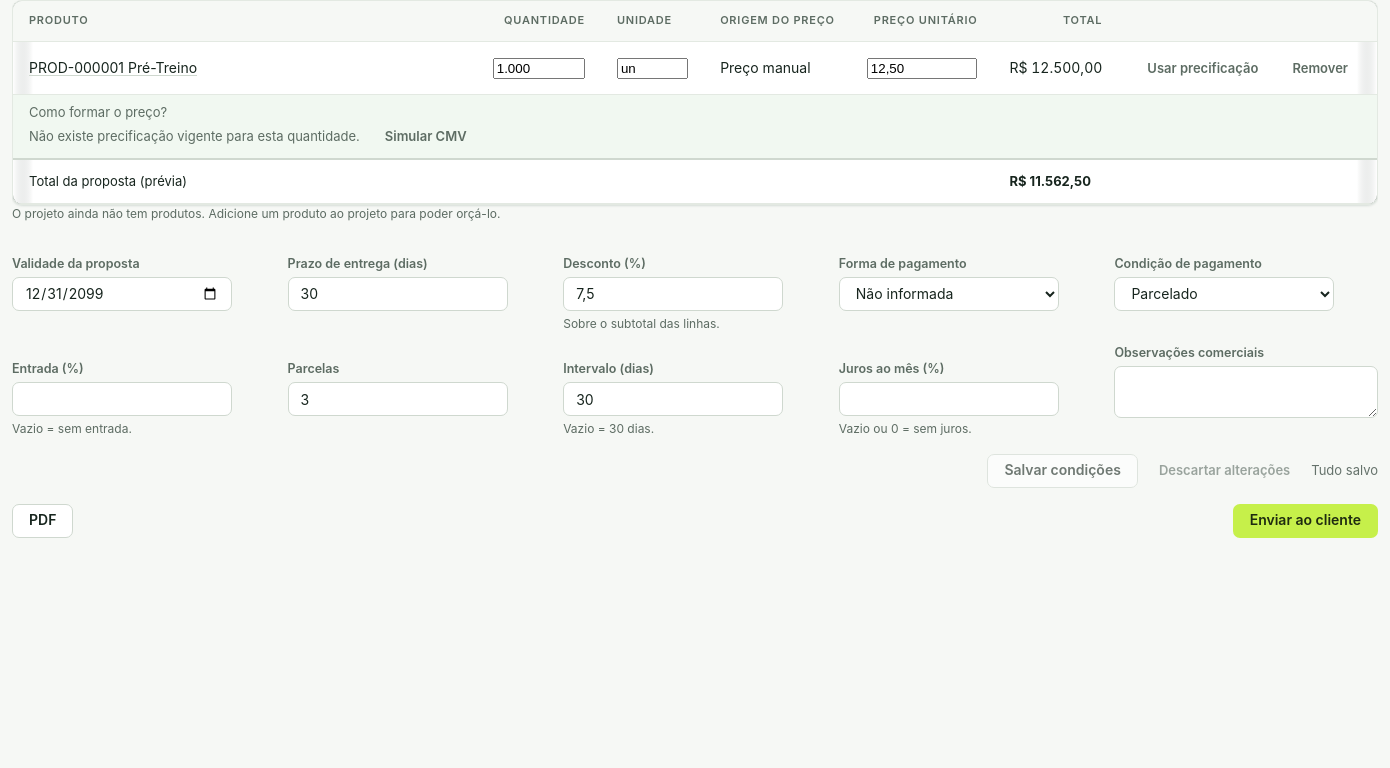
Test: preço unitário comercial — dinheiro de quatro casas › colar R$ 1.234,5678 grava 1234.5678 ao sair do campo
The image size is (1390, 768).
Click the field named "Preço unitário de PROD-000001" at (922, 68), box [867,58,977,79]
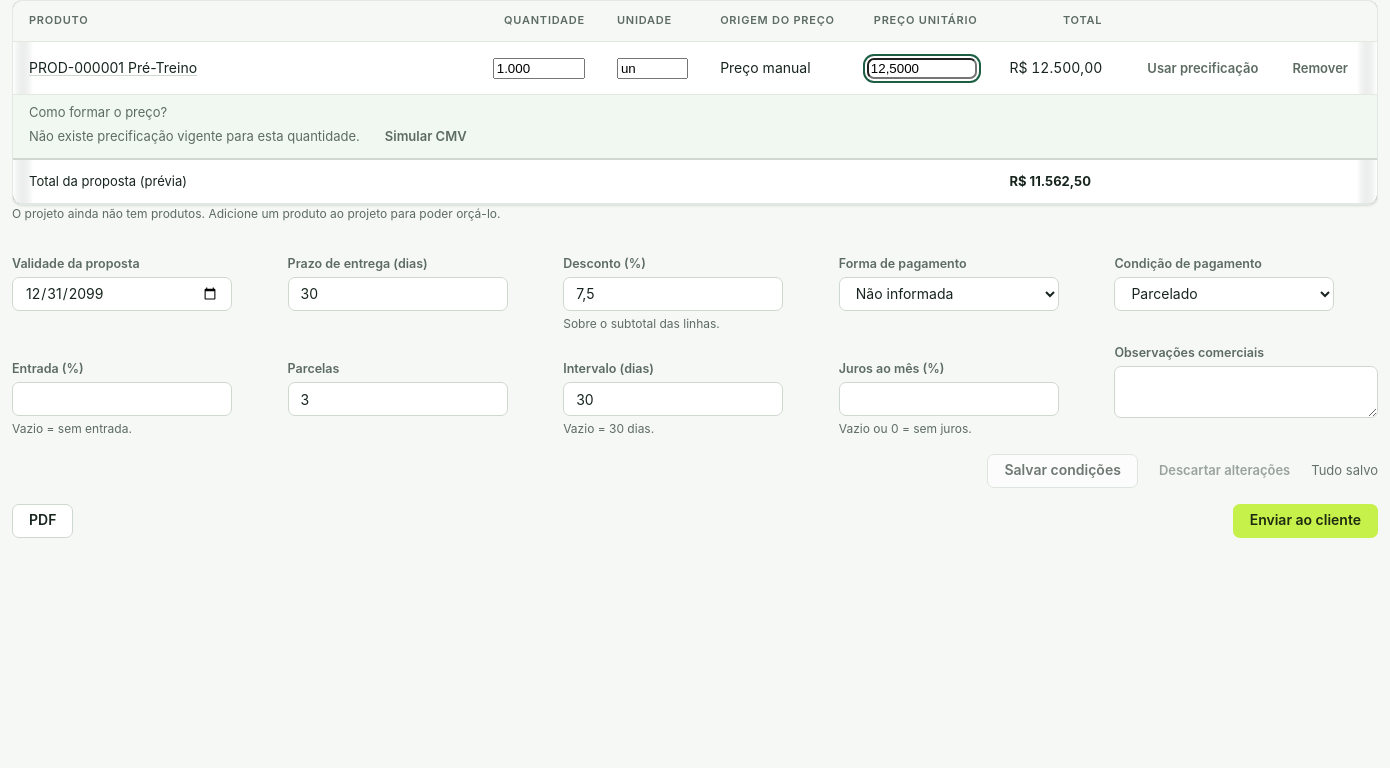
Type keys "{Control>}a{/Control}"
Type keys "R$ 1.234,5678"
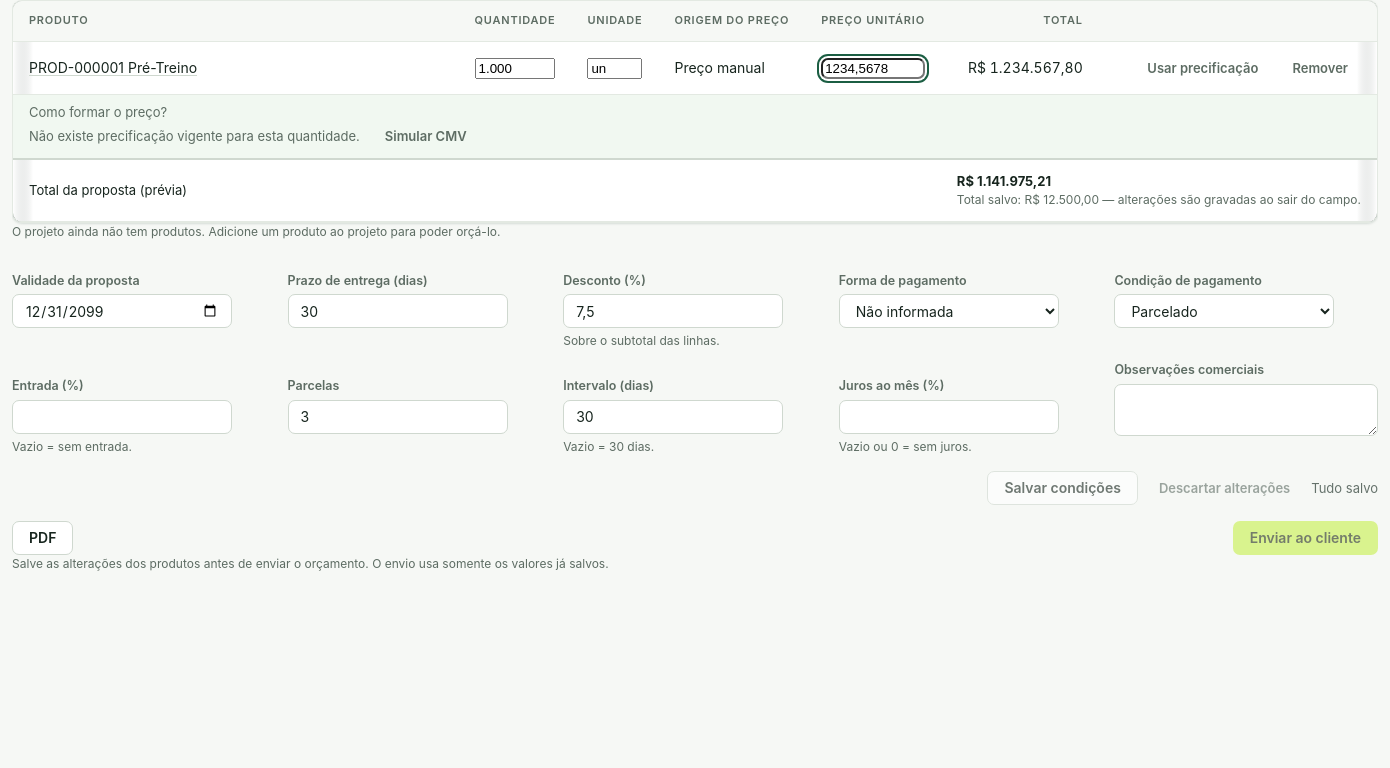
Check: the field named "Preço unitário de PROD-000001" holds "1234,5678", box [821,58,925,79]
Press Tab
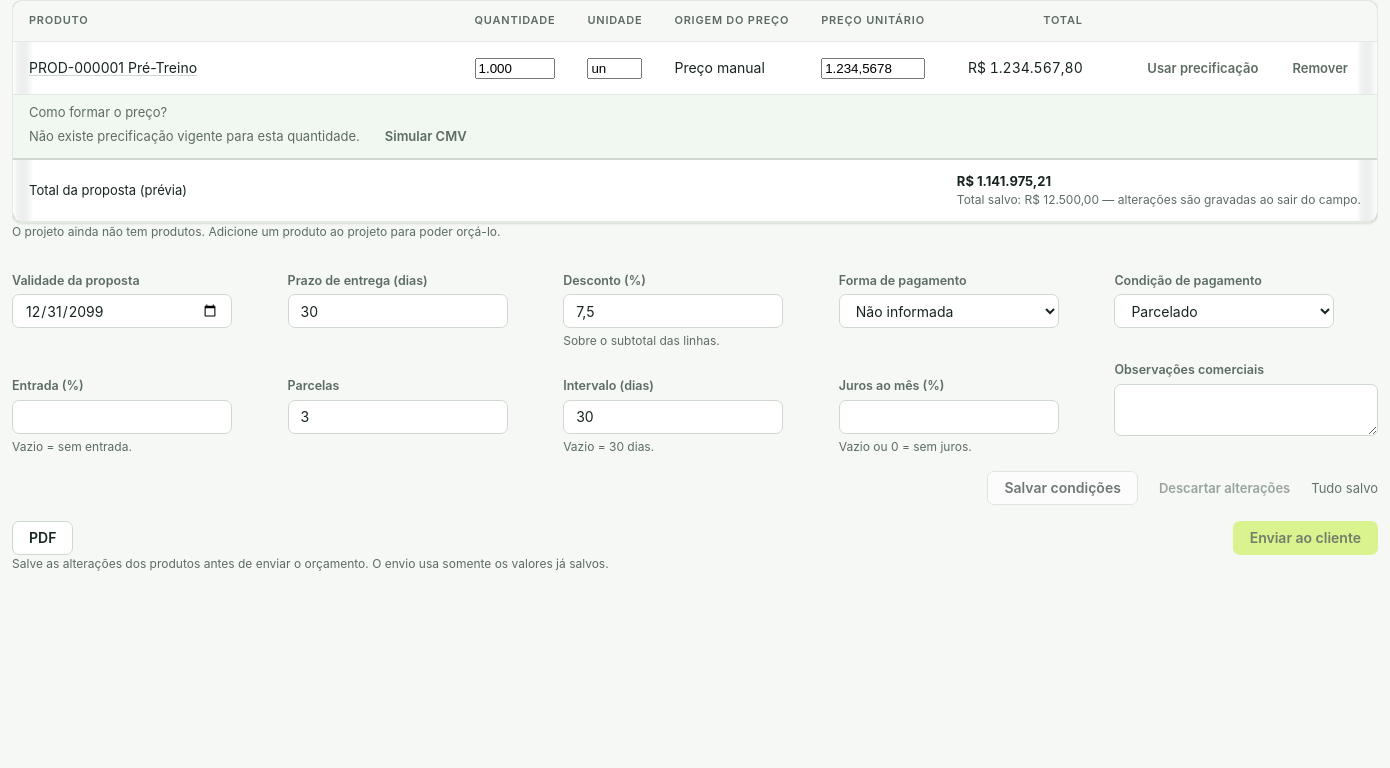
Check: the field named "Preço unitário de PROD-000001" holds "1.234,5678", box [821,58,925,79]
